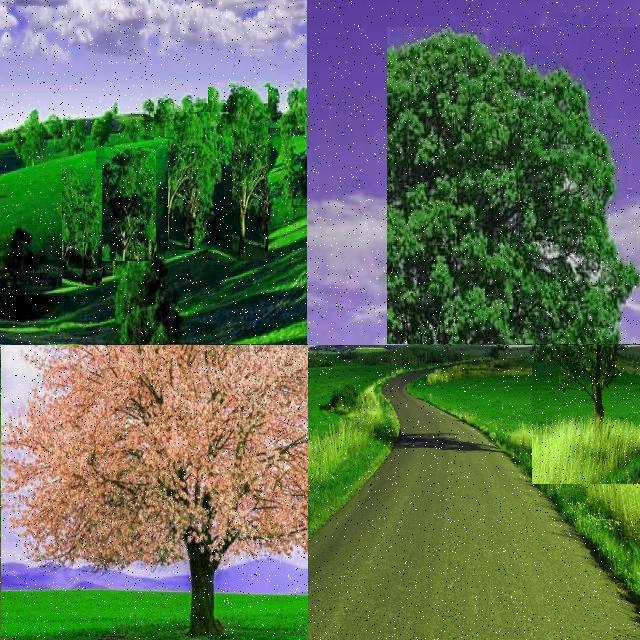tree: (0, 344, 308, 636), (387, 27, 640, 344), (532, 344, 640, 484), (208, 87, 268, 261), (0, 92, 44, 326), (168, 112, 232, 250), (112, 242, 180, 346), (96, 147, 156, 261), (1, 132, 36, 312), (62, 169, 102, 287), (6, 211, 40, 299), (18, 131, 46, 169), (258, 78, 282, 122), (154, 98, 174, 140), (47, 114, 65, 154), (92, 119, 116, 149), (144, 97, 156, 119)
